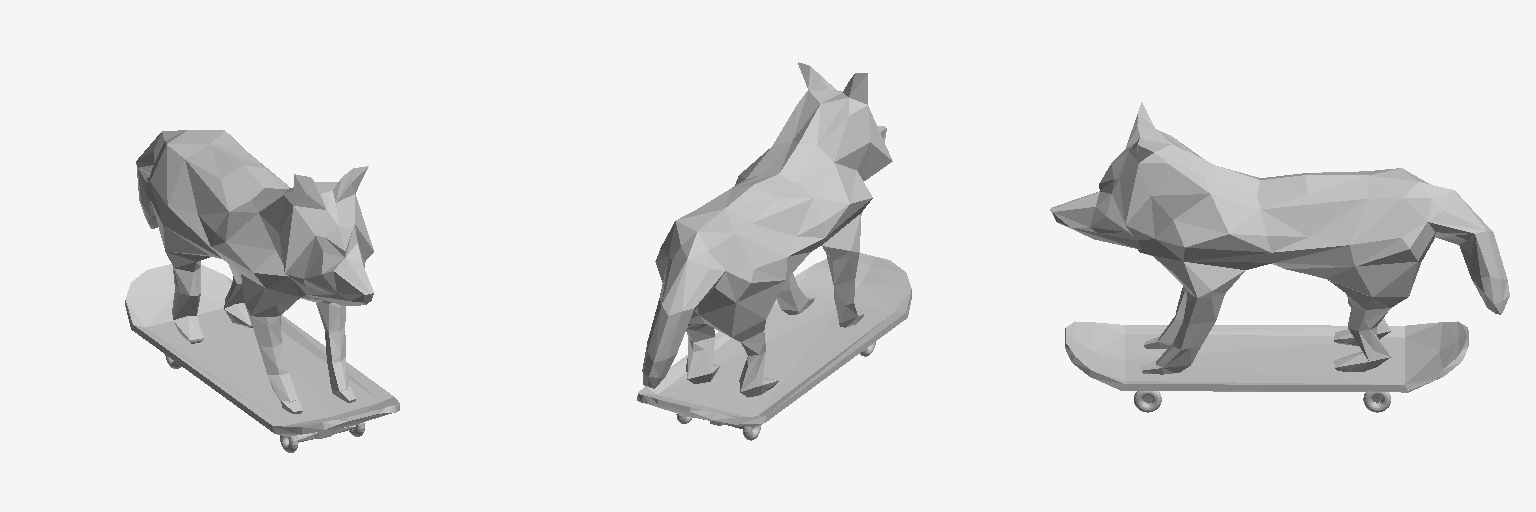
Rendered from Fuchs25.obj.
3 views of the same model, side by side, from view 1: azimuth 30°, elevation 25°; view 2: azimuth 150°, elevation 25°; view 3: azimuth 270°, elevation 25° (orthographic).
Bounding box in the file's own units: 3.58 × 7.87 × 11.73.